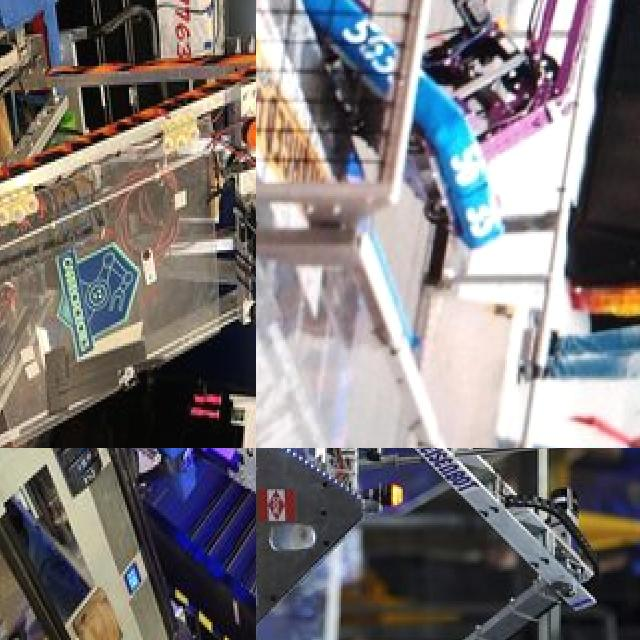FRC-Robots: (0, 0, 256, 448), (256, 448, 614, 640), (377, 0, 640, 200), (79, 448, 256, 530)
